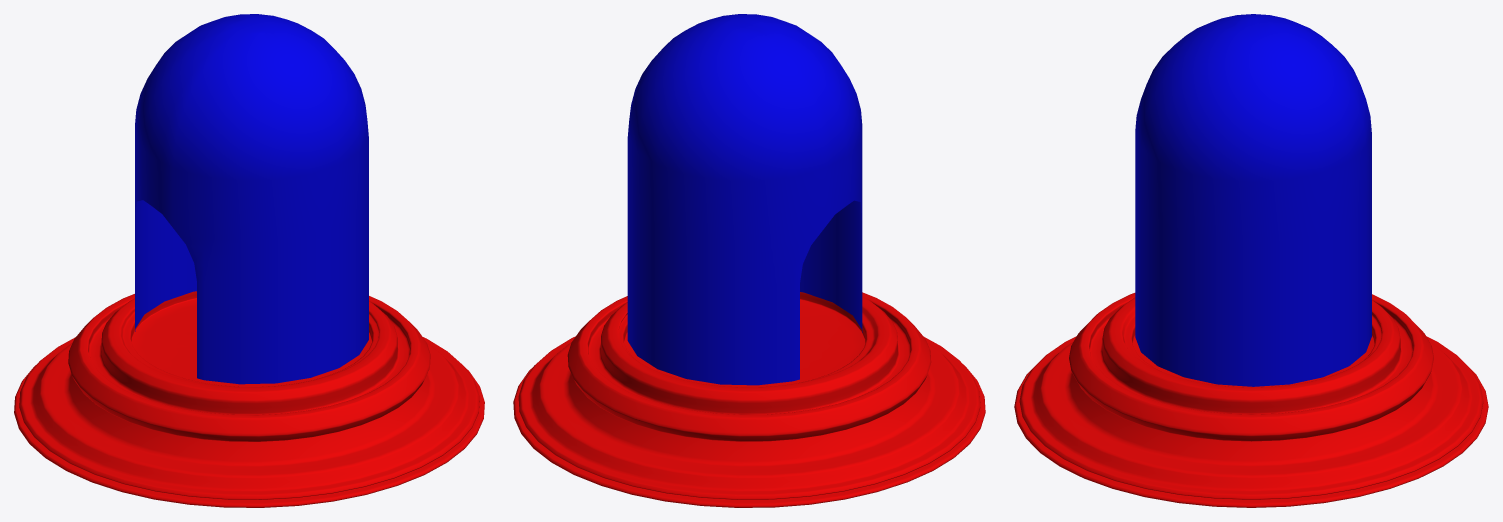
The model's file is starting position.fbx.
3 views of the same model, side by side, from view 1: azimuth 30°, elevation 25°; view 2: azimuth 150°, elevation 25°; view 3: azimuth 270°, elevation 25° (orthographic).
Visible parts, largest first — view 1: starting_position1:starting_position1; view 2: starting_position1:starting_position1; view 3: starting_position1:starting_position1.
Part boxes in pixels (<box>): starting_position1:starting_position1: <box>14,14,484,507</box>; starting_position1:starting_position1: <box>513,14,985,507</box>; starting_position1:starting_position1: <box>1014,14,1488,507</box>.
Bounding box in the file's own units: 288 × 257 × 288.
